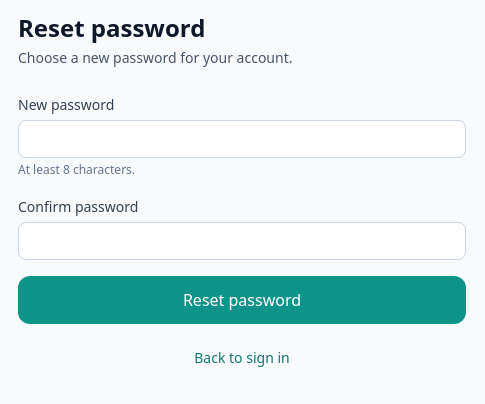
Test: ResetPasswordPage › E. /reset-password validates password mismatch
In the password field labelled "New password At least 8 characters.": [242, 139] box 18,120 -> 466,158, type "NewPass123!"
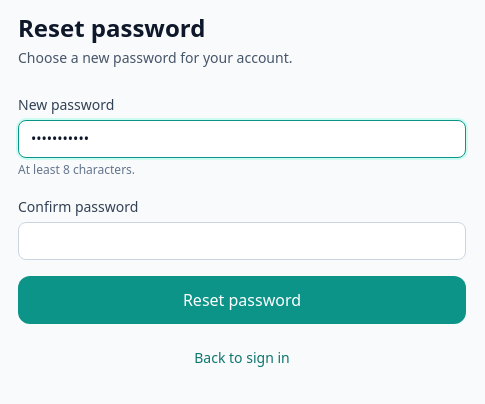
In the password field labelled "Confirm password": [242, 241] box 18,222 -> 466,260, type "Different123!"
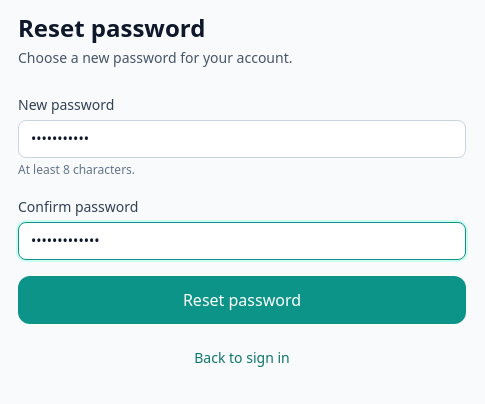
Click the button "Reset password": [242, 300] box 18,276 -> 466,324
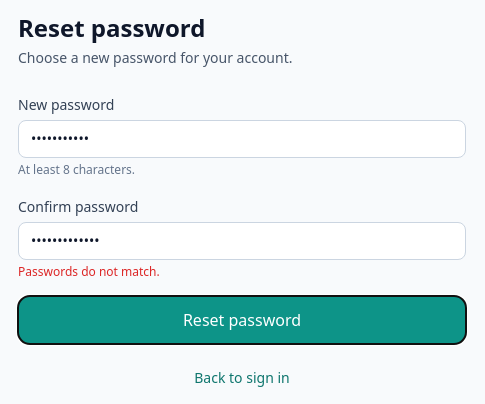
Check: the text "Passwords do not match." is shown, box 18,263 -> 160,280
